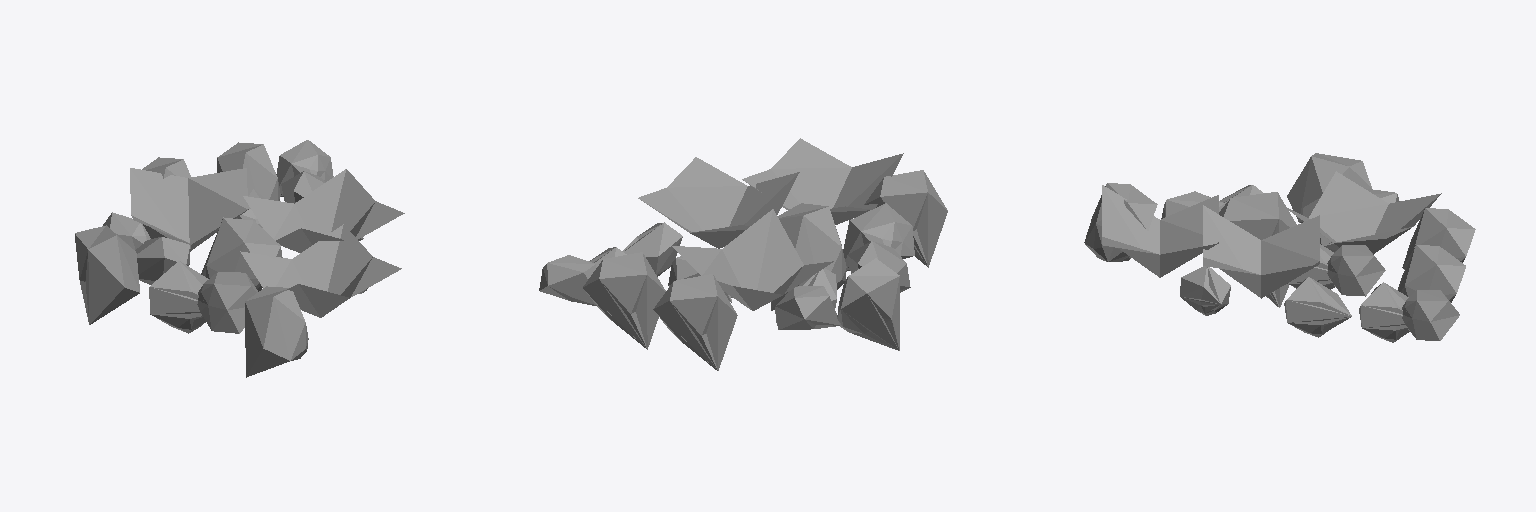
Rendered from StonePlants_blend.obj.
3 views of the same model, side by side, from view 1: azimuth 30°, elevation 25°; view 2: azimuth 150°, elevation 25°; view 3: azimuth 270°, elevation 25° (orthographic).
Visible parts, largest first — view 1: StoneandPlant64, StoneandPlant128; view 2: StoneandPlant64, StoneandPlant128; view 3: StoneandPlant64, StoneandPlant128.
Boxes of the visible parts, <box> form: StoneandPlant64: <box>75,140,404,377</box>; StoneandPlant128: <box>75,140,367,360</box>; StoneandPlant64: <box>539,138,947,370</box>; StoneandPlant128: <box>540,192,927,370</box>; StoneandPlant64: <box>1085,153,1475,340</box>; StoneandPlant128: <box>1084,156,1465,342</box>.
Size of the model in its own units: 2.65 by 0.9179 by 2.99.